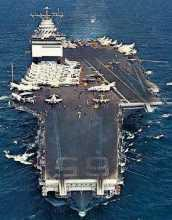warship: (10, 7, 158, 209)
